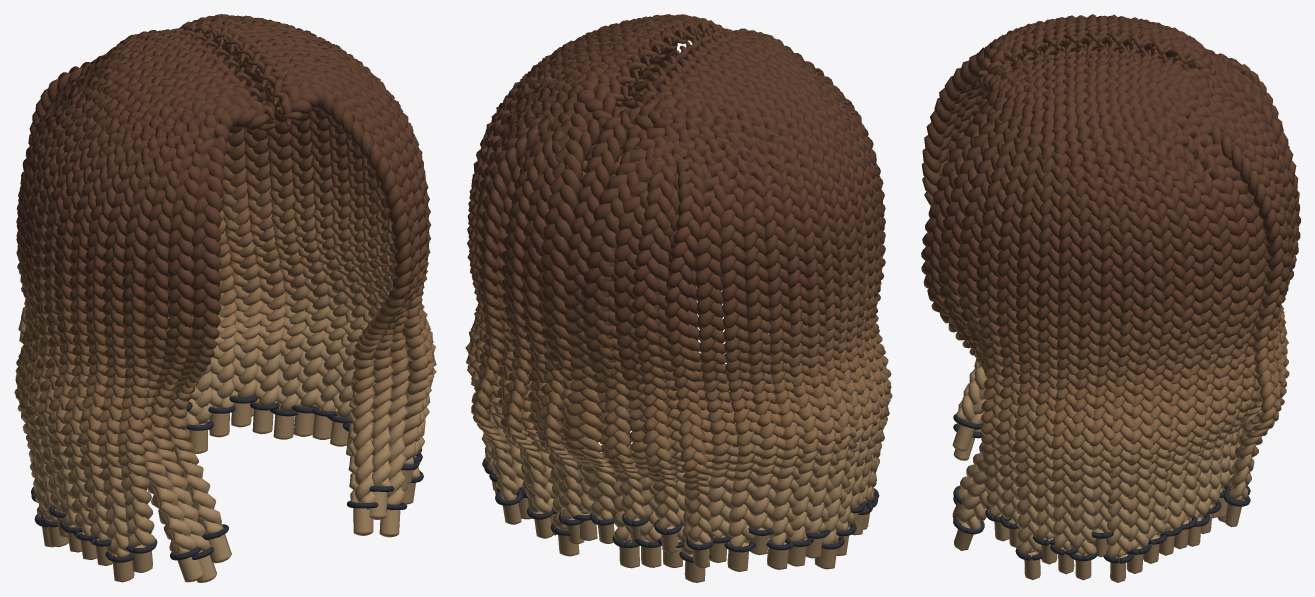
The model's file is box-braids-pashmina-ombre.glb.
3 views of the same model, side by side, from view 1: azimuth 30°, elevation 25°; view 2: azimuth 150°, elevation 25°; view 3: azimuth 270°, elevation 25° (orthographic). The views are drawn at different scales.
Parts seen in each view (by area): view 1: 226 hair / Hair / chestnut226.001, 226 hair / Hair / ties226.001; view 2: 226 hair / Hair / chestnut226.001, 226 hair / Hair / ties226.001; view 3: 226 hair / Hair / chestnut226.001, 226 hair / Hair / ties226.001.
Part boxes in pixels (x1=…): 226 hair / Hair / chestnut226.001: x1=14, y1=14, x2=436, y2=582; 226 hair / Hair / ties226.001: x1=31, y1=395, x2=423, y2=562; 226 hair / Hair / chestnut226.001: x1=465, y1=14, x2=892, y2=582; 226 hair / Hair / ties226.001: x1=482, y1=419, x2=879, y2=562; 226 hair / Hair / chestnut226.001: x1=921, y1=14, x2=1300, y2=582; 226 hair / Hair / ties226.001: x1=953, y1=414, x2=1250, y2=563.
Size of the model in its own units: 0.907 by 1.08 by 0.7938.
